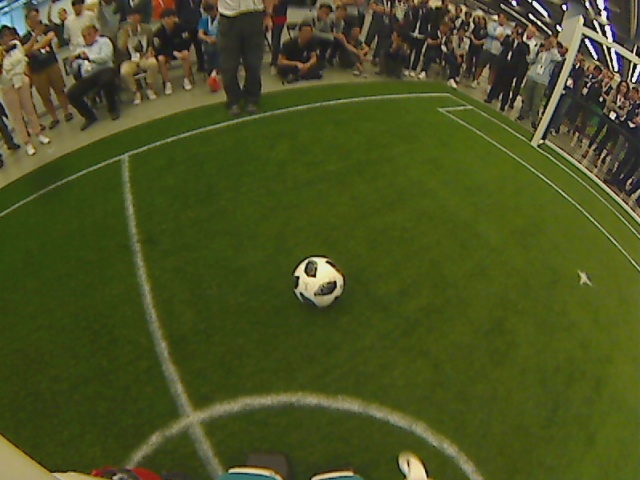ball: (291, 255, 345, 307)
